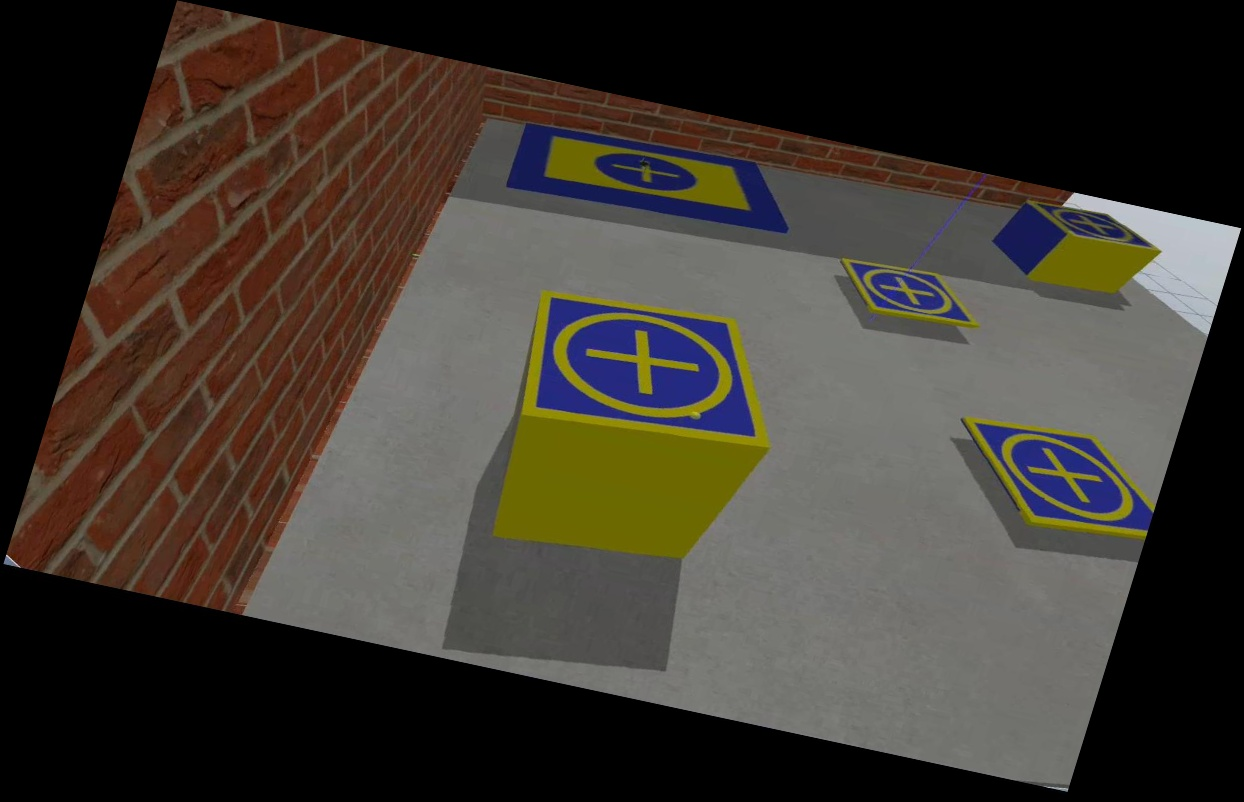large_base: (505, 113, 812, 245)
small_base: (504, 279, 805, 467), (934, 408, 1174, 550), (829, 253, 989, 335), (1014, 193, 1171, 261)
